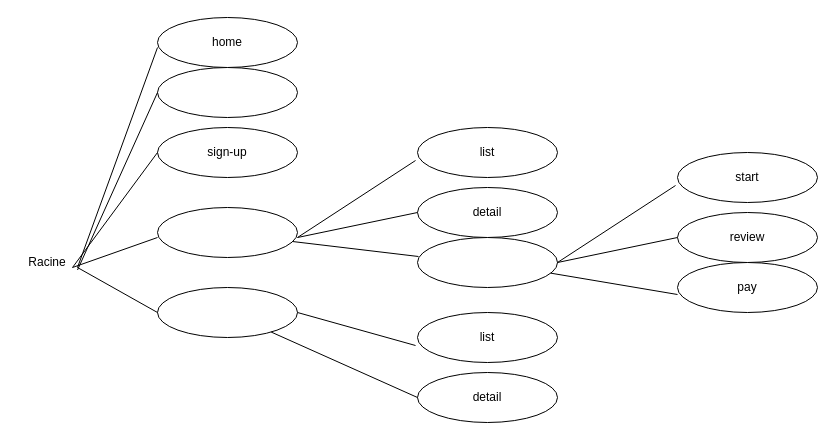
This 835x440 diagram has some shape labels left out. The centre of each missing label's shape, as x and y in pixels:
"customer" goes at (x=227, y=232).
"login" goes at (x=227, y=92).
"manager" goes at (x=227, y=312).
"reservation" goes at (x=487, y=262).
